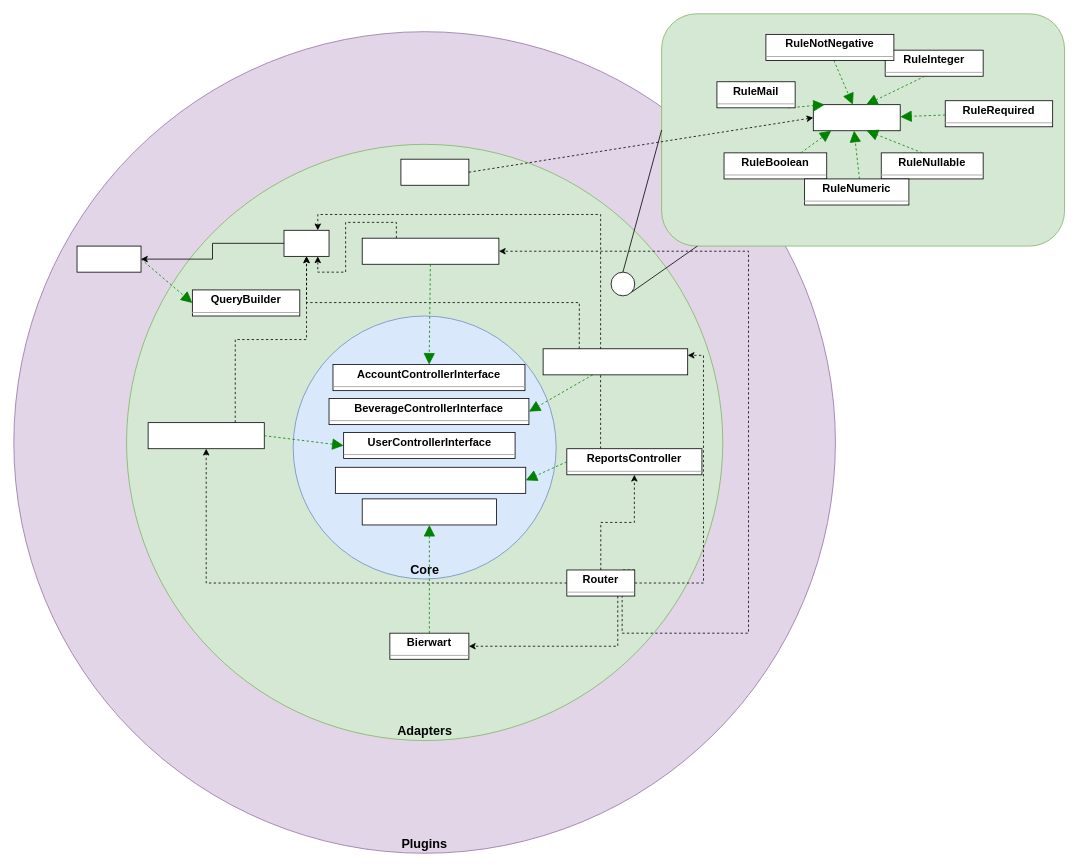
Image size: 1078x867. Some labels were removed from this diagram. The shapes that lost their labels are listed below. From the top down, each one's box as (x1, y1, x2, y2) in pixels, then its label:
(813, 104, 900, 131): Validation
(400, 158, 469, 185): Request
(76, 245, 141, 272): SqLite
(283, 229, 329, 256): DB
(361, 237, 499, 264): AccountController
(542, 348, 688, 375): BeverageController
(147, 422, 264, 449): UserController
(335, 466, 526, 493): ReportsControllerInterface
(361, 498, 497, 525): BierwartInterface
